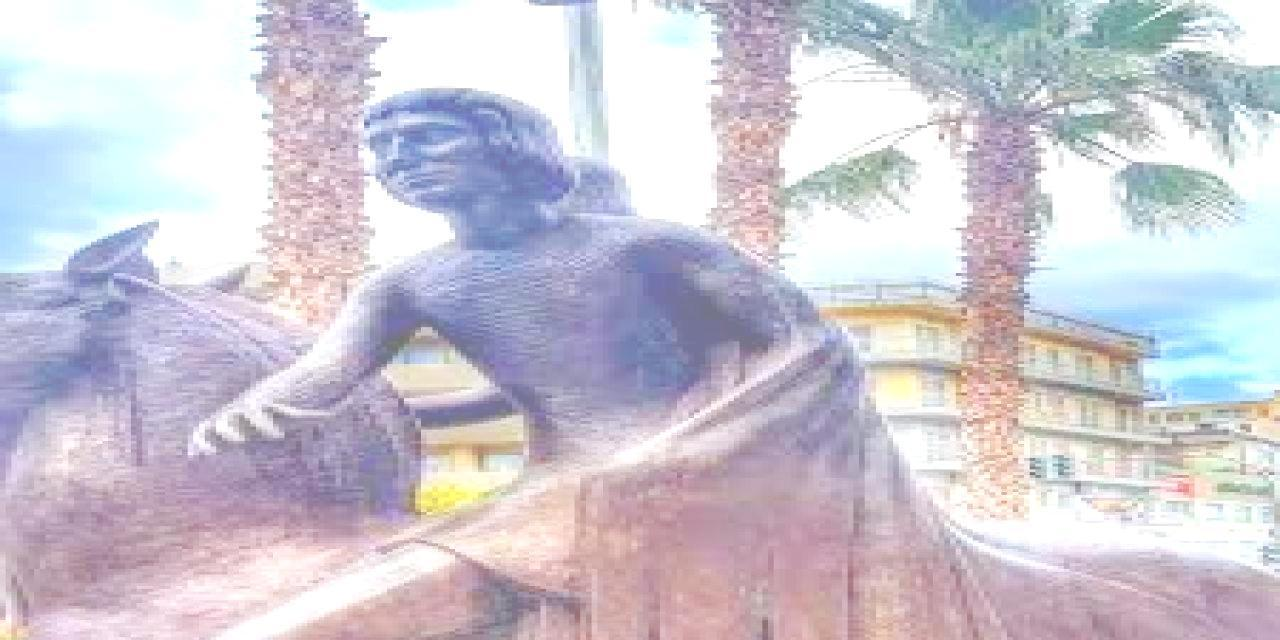Aretousa: (1, 85, 1280, 640)
